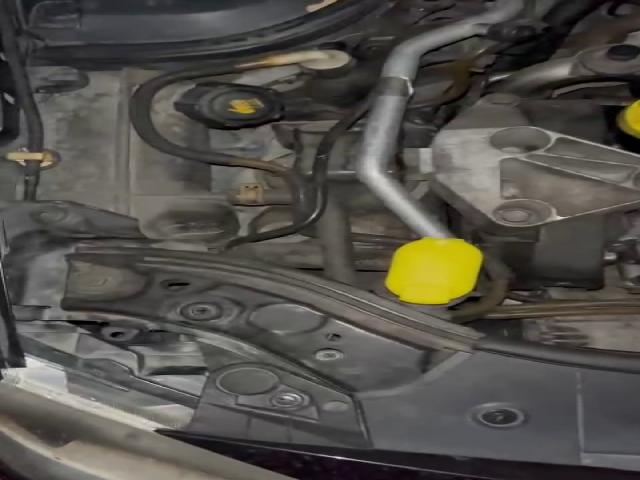antifreeze_tank: (38, 69, 241, 249), (150, 82, 283, 150)
